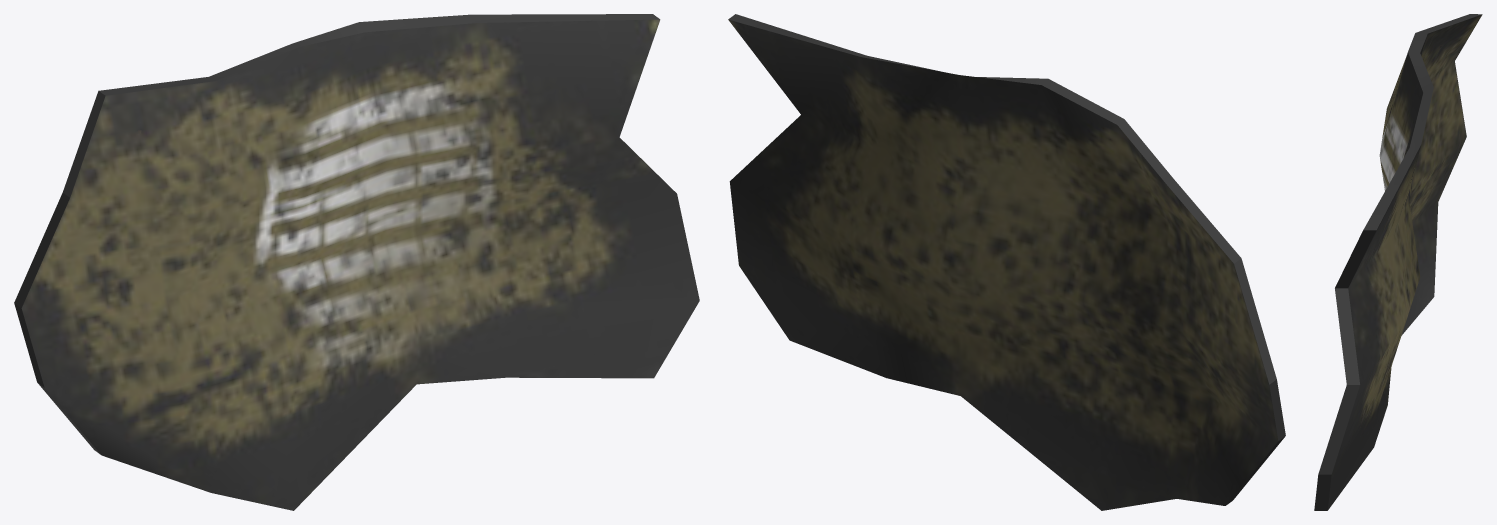
The model's file is FlyingDebri2.fbx.
The picture shows the model from 3 angles, left to right: view 1: azimuth 30°, elevation 25°; view 2: azimuth 150°, elevation 25°; view 3: azimuth 270°, elevation 25°; orthographic projection. The views are drawn at different scales.
Parts seen in each view (by area): view 1: FlyingDebri2; view 2: FlyingDebri2; view 3: FlyingDebri2.
Boxes of the visible parts, <box> form: FlyingDebri2: <box>14,14,699,510</box>; FlyingDebri2: <box>728,14,1285,510</box>; FlyingDebri2: <box>1314,14,1482,510</box>.
Size of the model in its own units: 0.0926 by 0.064 by 0.0251.
Materials: 1 (1 with a texture image).
